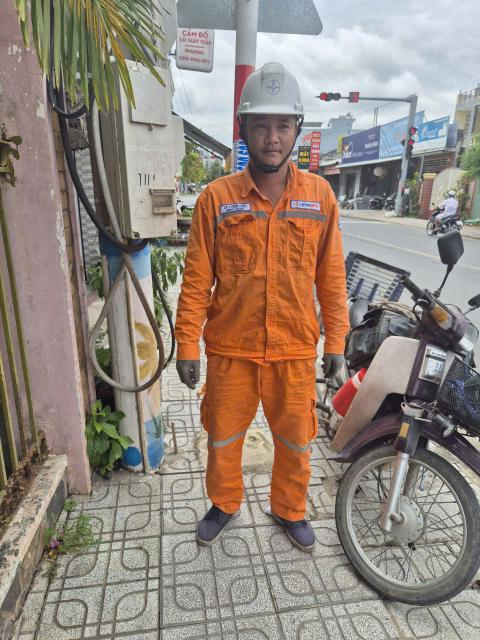gloves: (165, 351, 211, 391), (308, 349, 352, 379)
helmet: (229, 56, 315, 126)
shoes: (269, 497, 330, 553), (192, 500, 253, 550)
